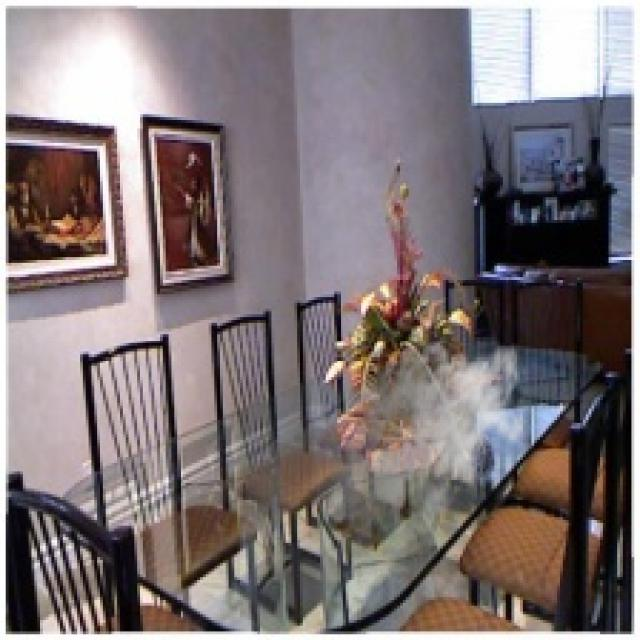smoke: (326, 332, 526, 552)
